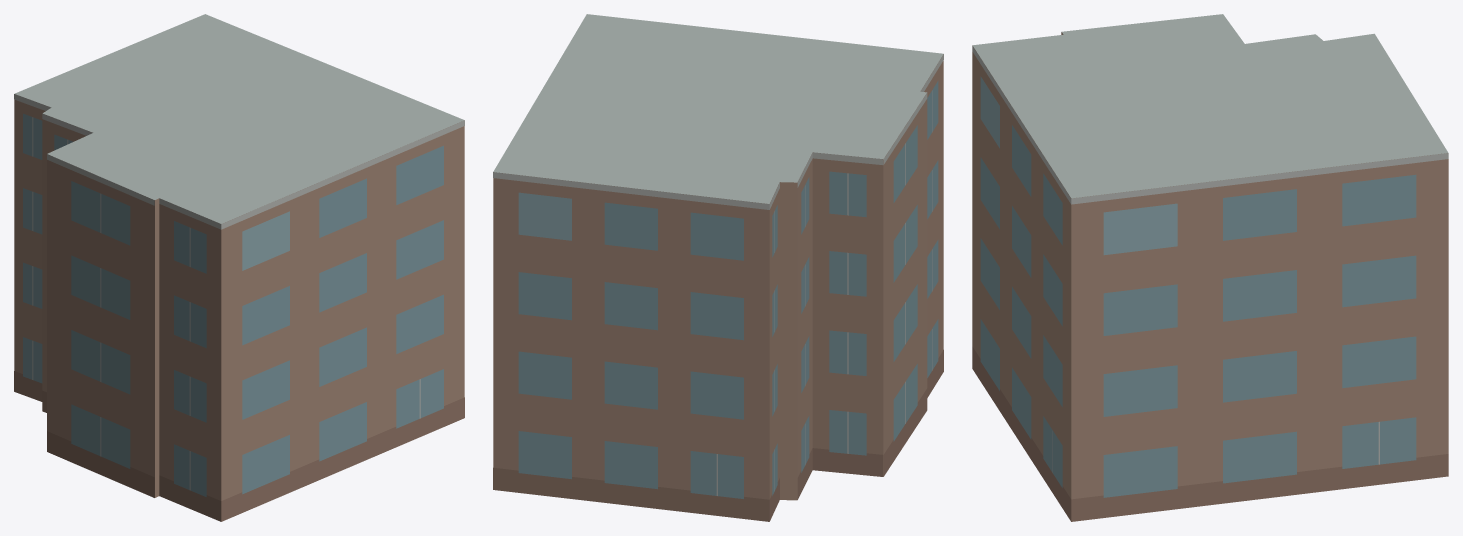
Rendered from survey-upis-32562108.glb.
3 renders of one model, left to right at view 1: azimuth 30°, elevation 25°; view 2: azimuth 150°, elevation 25°; view 3: azimuth 270°, elevation 25°, orthographic. The views are drawn at different scales.
Parts seen in each view (by area): view 1: survey-upis-32562108.tmp; view 2: survey-upis-32562108.tmp; view 3: survey-upis-32562108.tmp.
Part boxes in pixels (left/top/right/bottom): survey-upis-32562108.tmp: left=14, top=14, right=464, bottom=521; survey-upis-32562108.tmp: left=493, top=14, right=943, bottom=521; survey-upis-32562108.tmp: left=972, top=14, right=1448, bottom=521.
Size of the model in its own units: 15.66 by 12.8 by 17.08.
